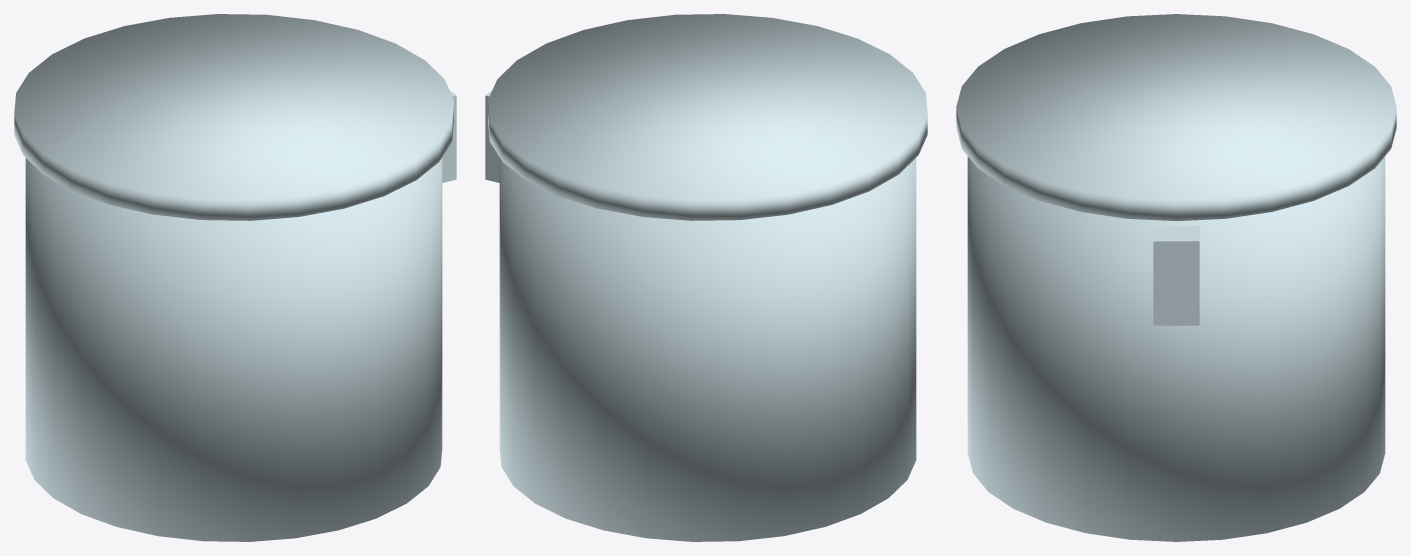
File: beaker.glb
3 renders of one model, left to right at view 1: azimuth 30°, elevation 25°; view 2: azimuth 150°, elevation 25°; view 3: azimuth 270°, elevation 25°, orthographic.
Parts seen in each view (by area): view 1: Cylinder; view 2: Cylinder; view 3: Cylinder.
Part boxes in pixels (x1,y1,x2,y2): Cylinder: [14, 14, 456, 541]; Cylinder: [485, 14, 927, 541]; Cylinder: [956, 14, 1396, 541].
Size of the model in its own units: 0.12 by 0.099 by 0.114.
